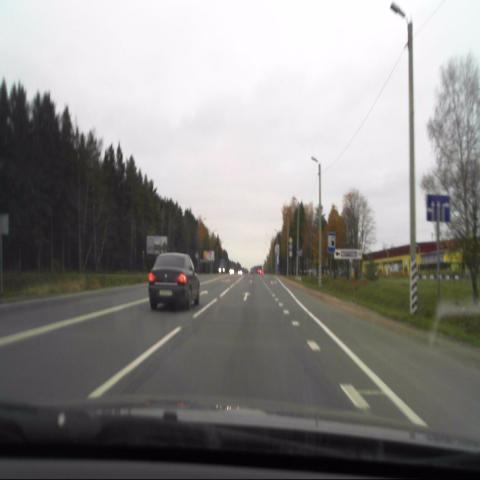5_15_1: (426, 194, 451, 222)
7_3: (328, 232, 336, 253)
